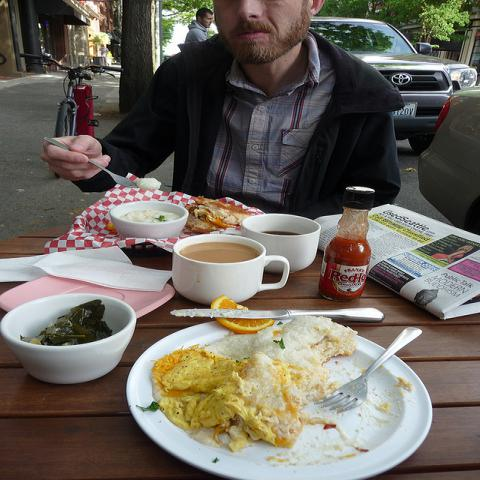car: (306, 16, 453, 156), (418, 85, 479, 234)
